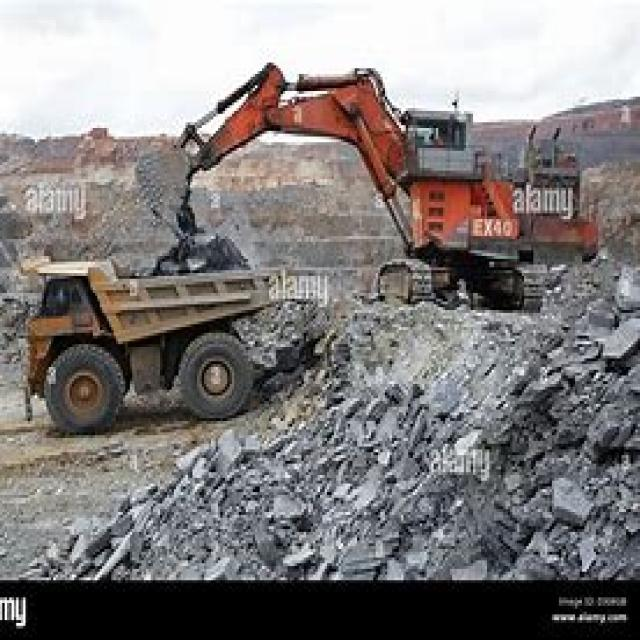dump_truck: (18, 242, 297, 441)
excavator: (130, 42, 614, 322)
